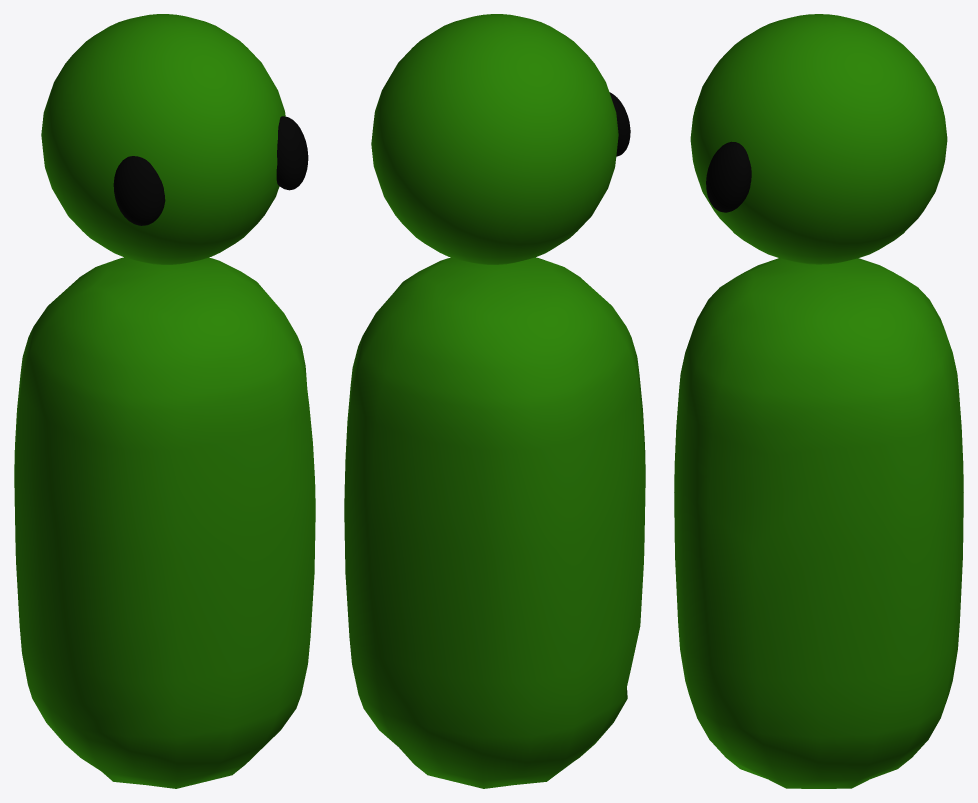
File: enemyGoblin.fbx
The picture shows the model from 3 angles, left to right: view 1: azimuth 30°, elevation 25°; view 2: azimuth 150°, elevation 25°; view 3: azimuth 270°, elevation 25°; orthographic projection.
Parts seen in each view (by area): view 1: Sphere.002, Sphere.010, Sphere.012; view 2: Sphere.002, Sphere.010, Sphere.012; view 3: Sphere.002, Sphere.010, Sphere.012.
Part boxes in pixels (x1,y1,x2,y2): Sphere.002: (14,257,315,788); Sphere.010: (41,14,285,264); Sphere.012: (113,116,308,225); Sphere.002: (344,257,645,788); Sphere.010: (371,14,618,264); Sphere.012: (609,92,630,156); Sphere.002: (674,258,963,788); Sphere.010: (690,14,947,264); Sphere.012: (706,141,751,212).
Size of the model in its own units: 32.46 by 91.33 by 32.46.
